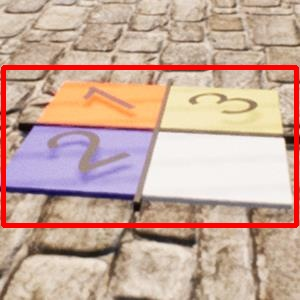nfpa: (3, 67, 296, 225)
